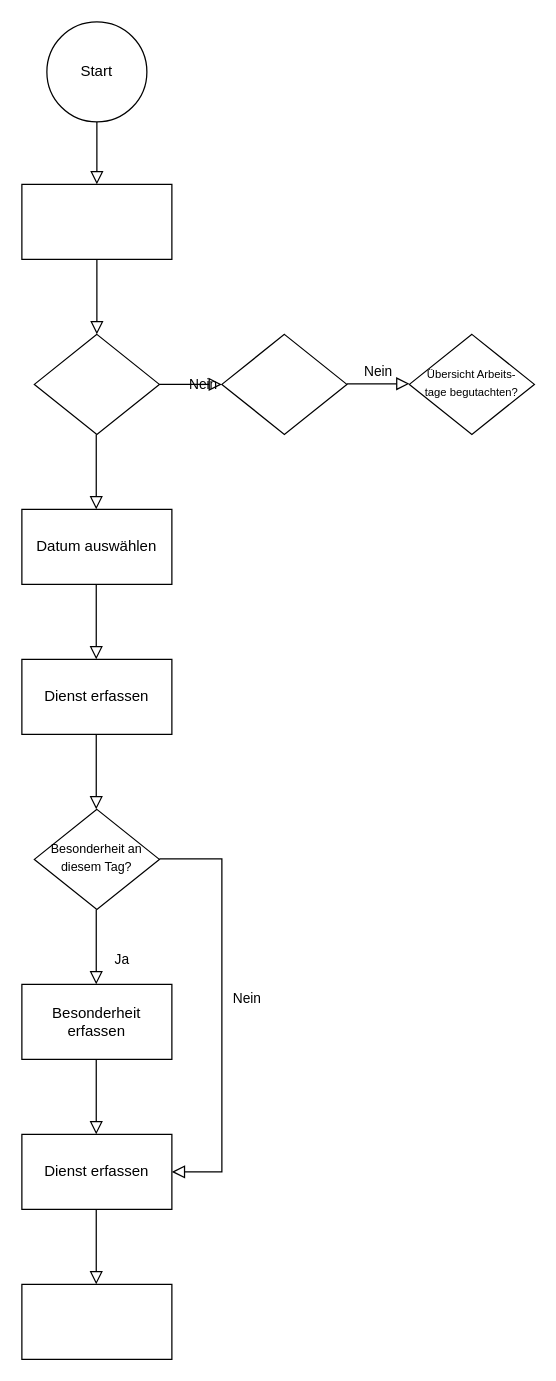
Image size: 556x1381. Some labels were removed from this diagram. The shapes that lost their labels are listed below. From the top down, each one's centre as x and y in pixels, then its label:
point (96, 221): Übersicht Lohn- und Arbeitstage aufrufen
point (96, 383): Arbeitstag erfassen?
point (284, 383): Lohn und Stundenübersicht bechutachten?
point (96, 1321): Speichern Button klicken
